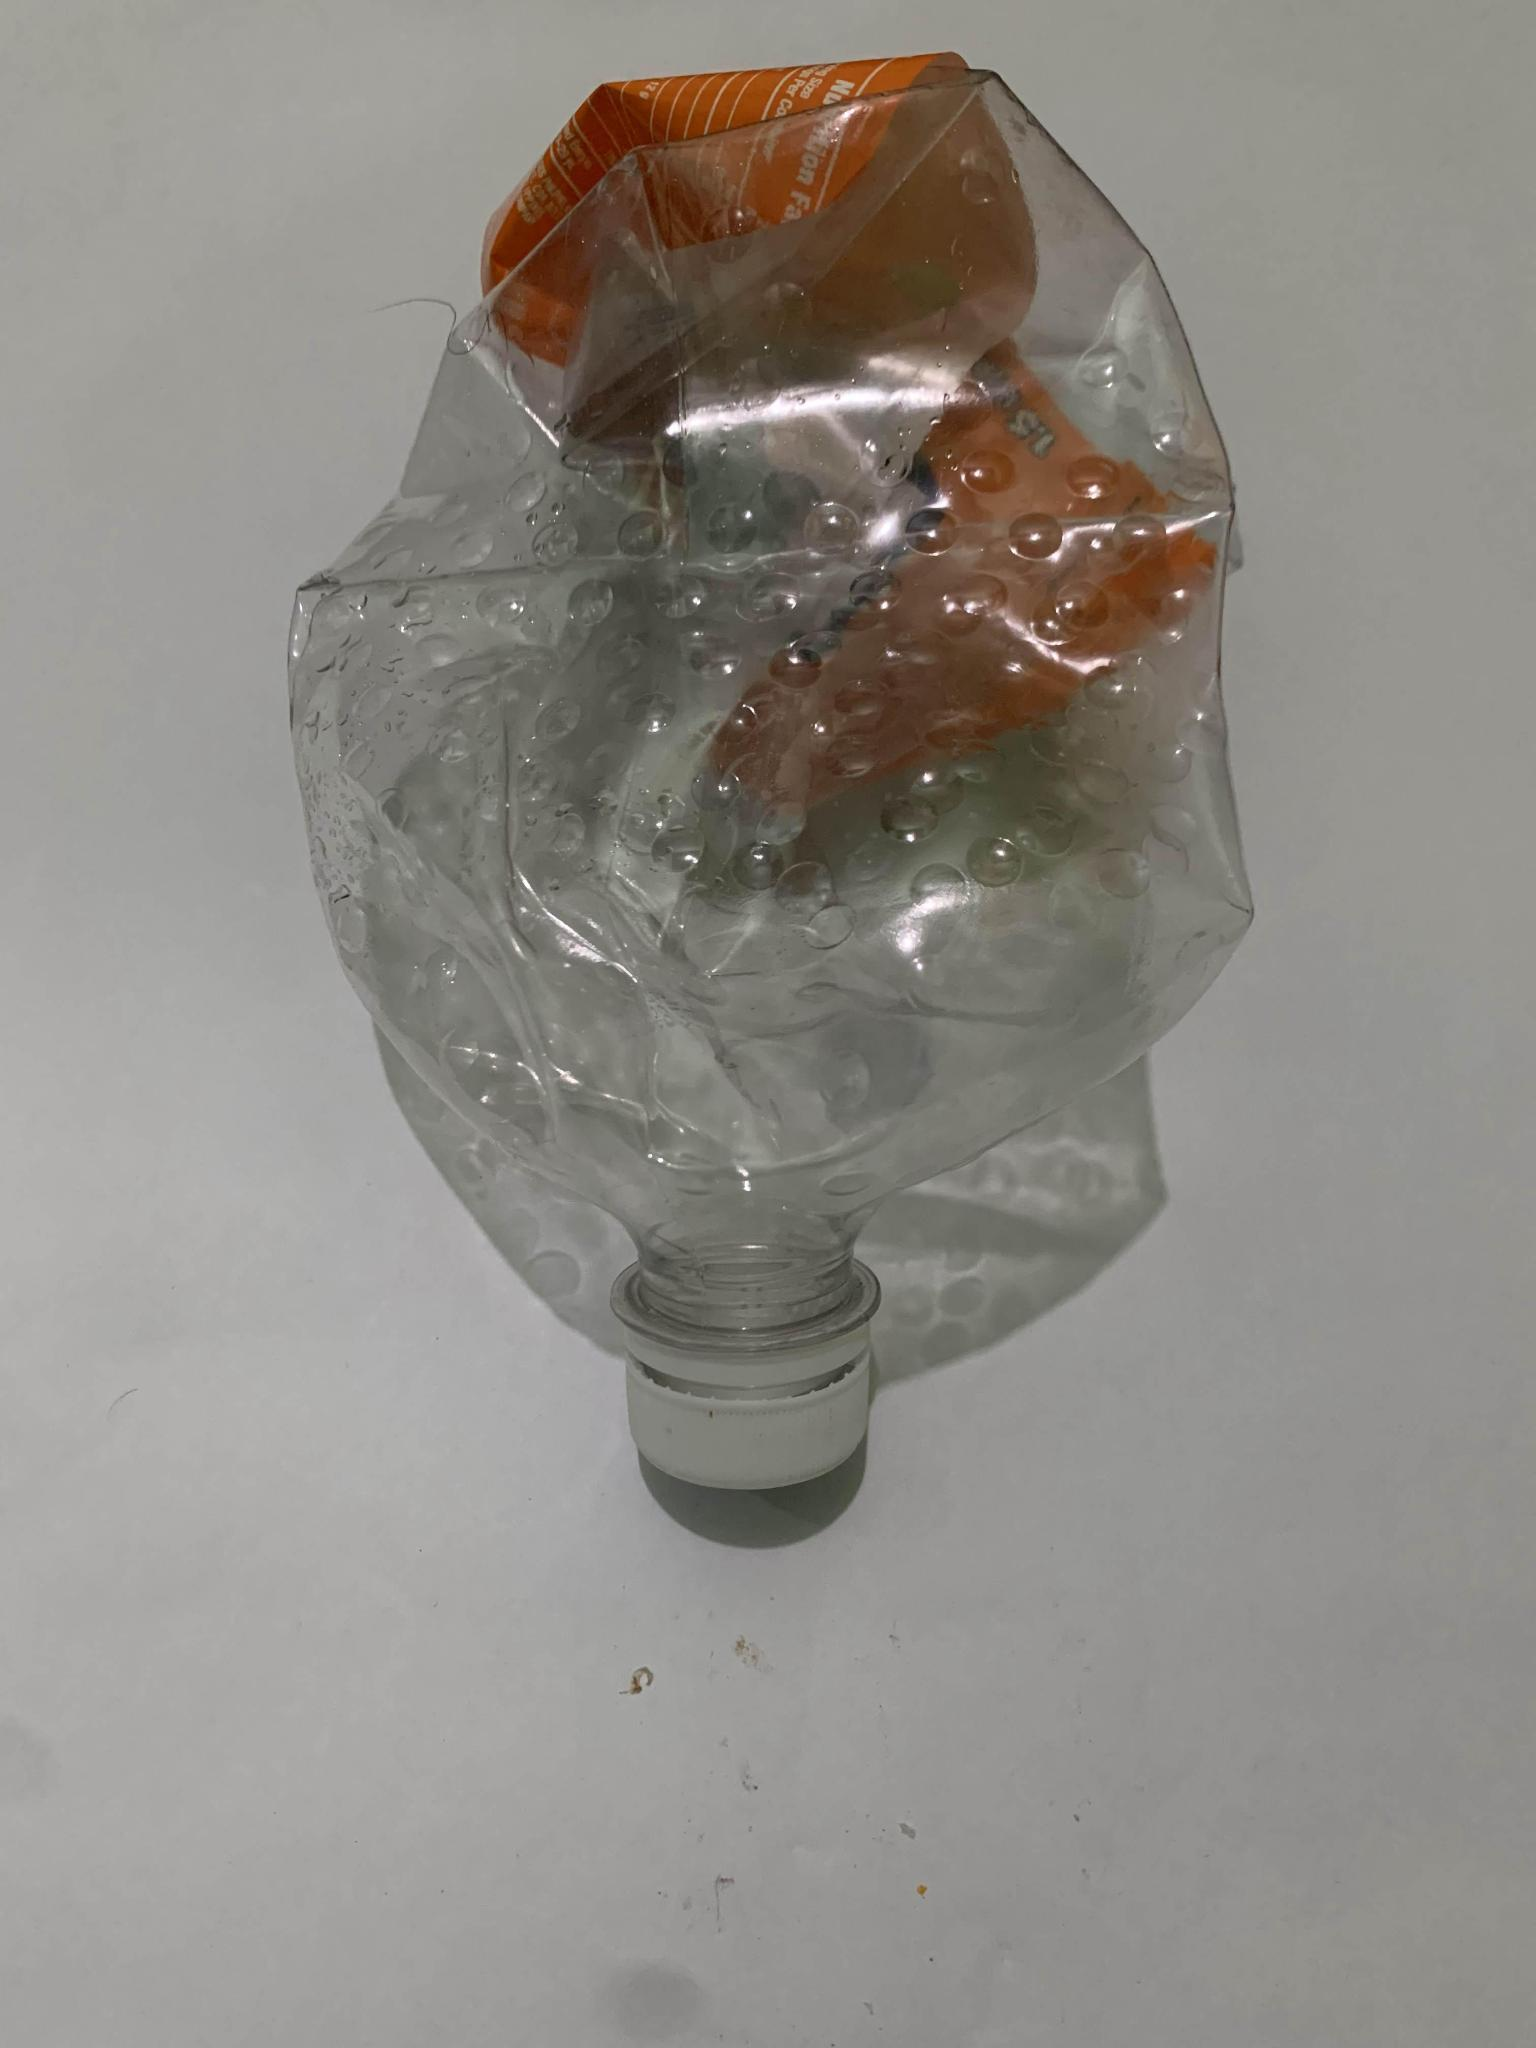bottle: (273, 53, 1296, 1543)
